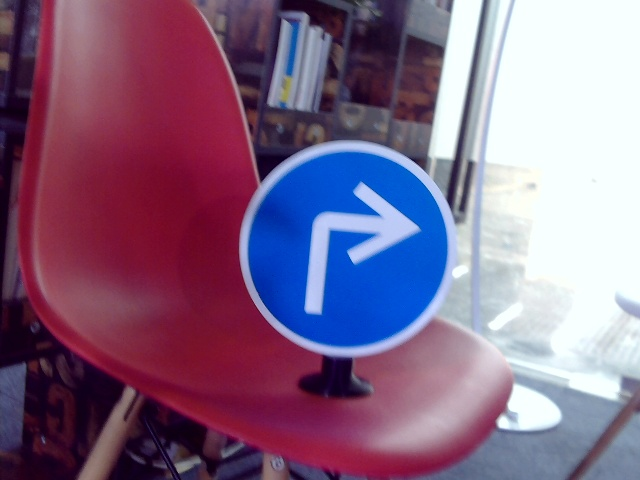turn_right: (298, 169, 420, 314)
